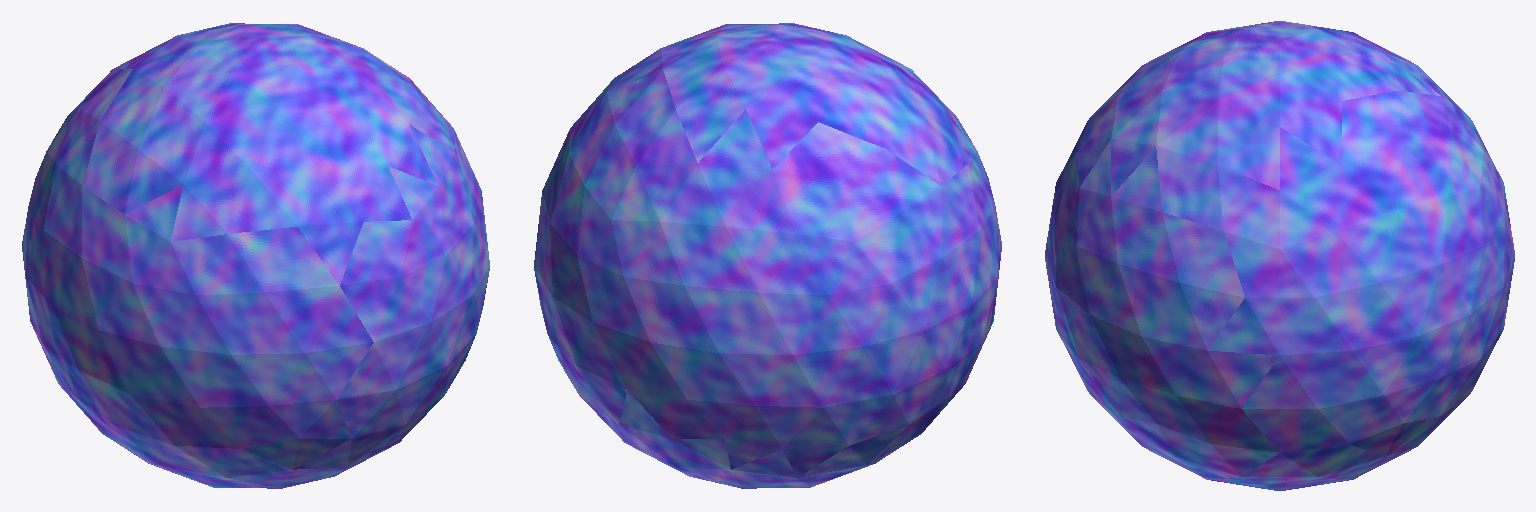
3 renders of one model, left to right at view 1: azimuth 30°, elevation 25°; view 2: azimuth 150°, elevation 25°; view 3: azimuth 270°, elevation 25°, orthographic.
Visible parts, largest first — view 1: Icosphere.001; view 2: Icosphere.001; view 3: Icosphere.001.
Part boxes in pixels (bbox=[...]): Icosphere.001: bbox=[22, 23, 489, 488]; Icosphere.001: bbox=[534, 23, 1001, 488]; Icosphere.001: bbox=[1045, 21, 1514, 490].
Bounding box in the file's own units: 1 × 1 × 1.
Materials: 1 (1 with a texture image).